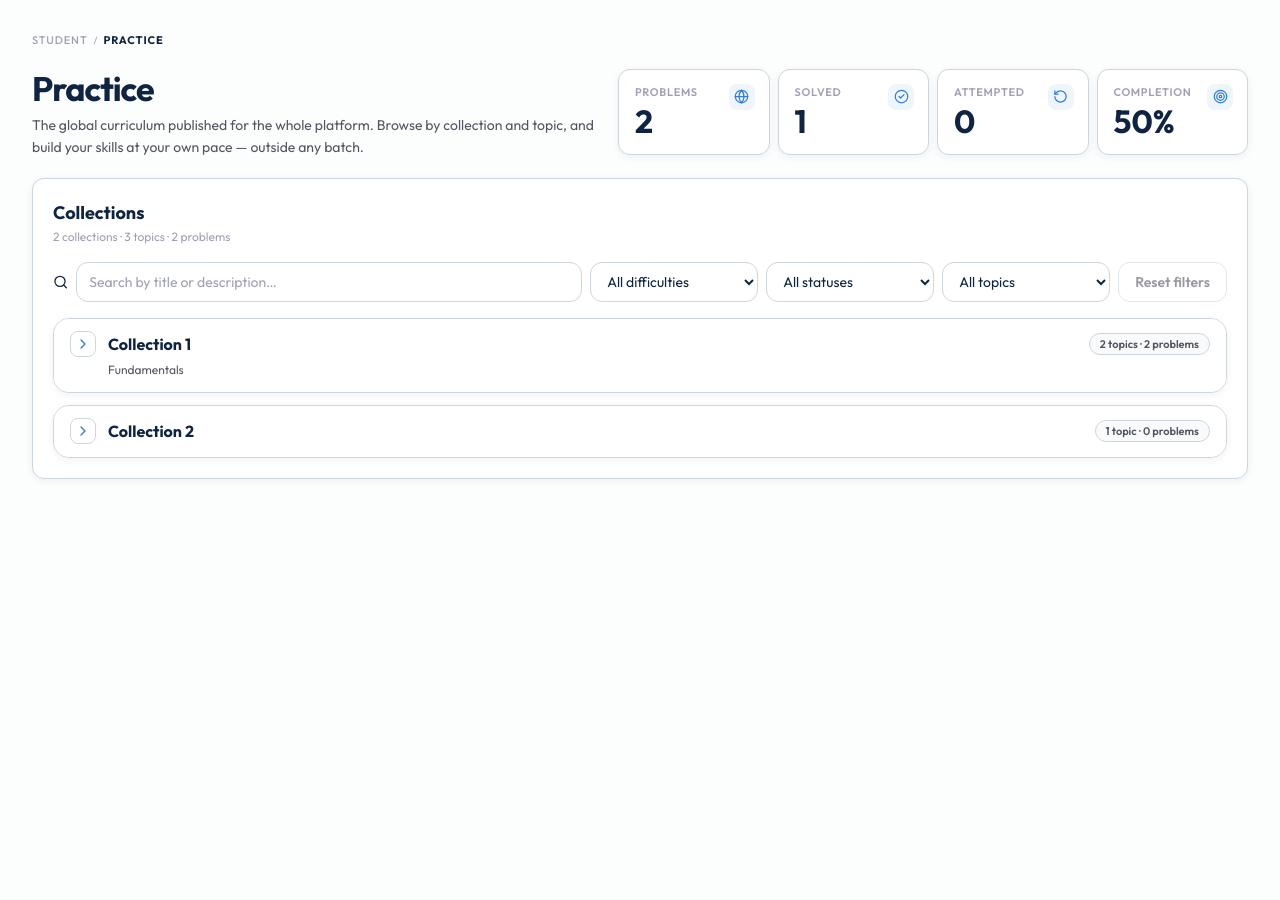
only problems belonging to that topic are shown
This screenshot has width=1280, height=900.
Expected: the text "Collection 1" is shown, [108,334,191,354]
Click the button "Collection 1 2 topics · 2 problems" at (150, 344), box [70,331,1210,357]
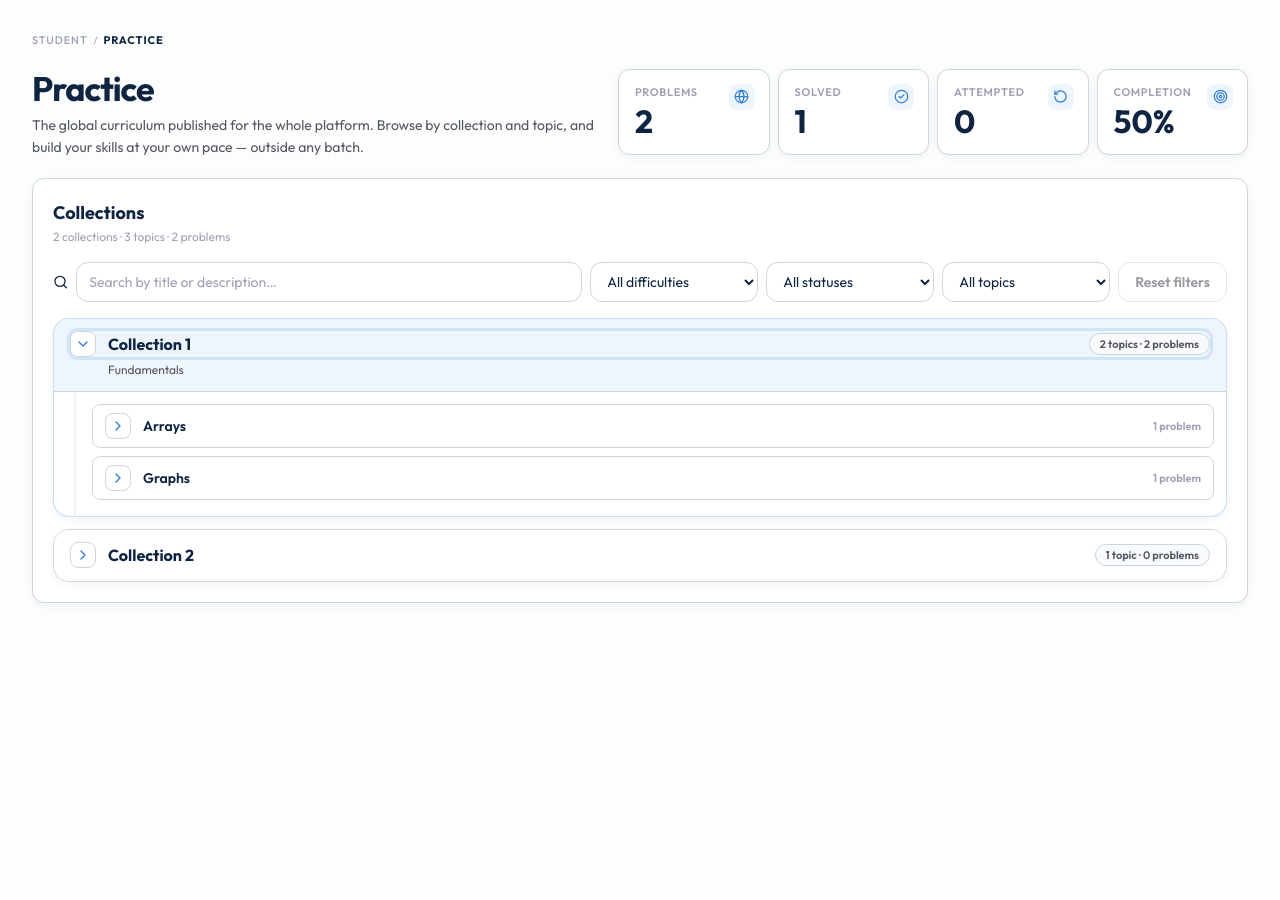
Click the button "Arrays 1 problem" at (165, 426), box [105,413,1201,439]
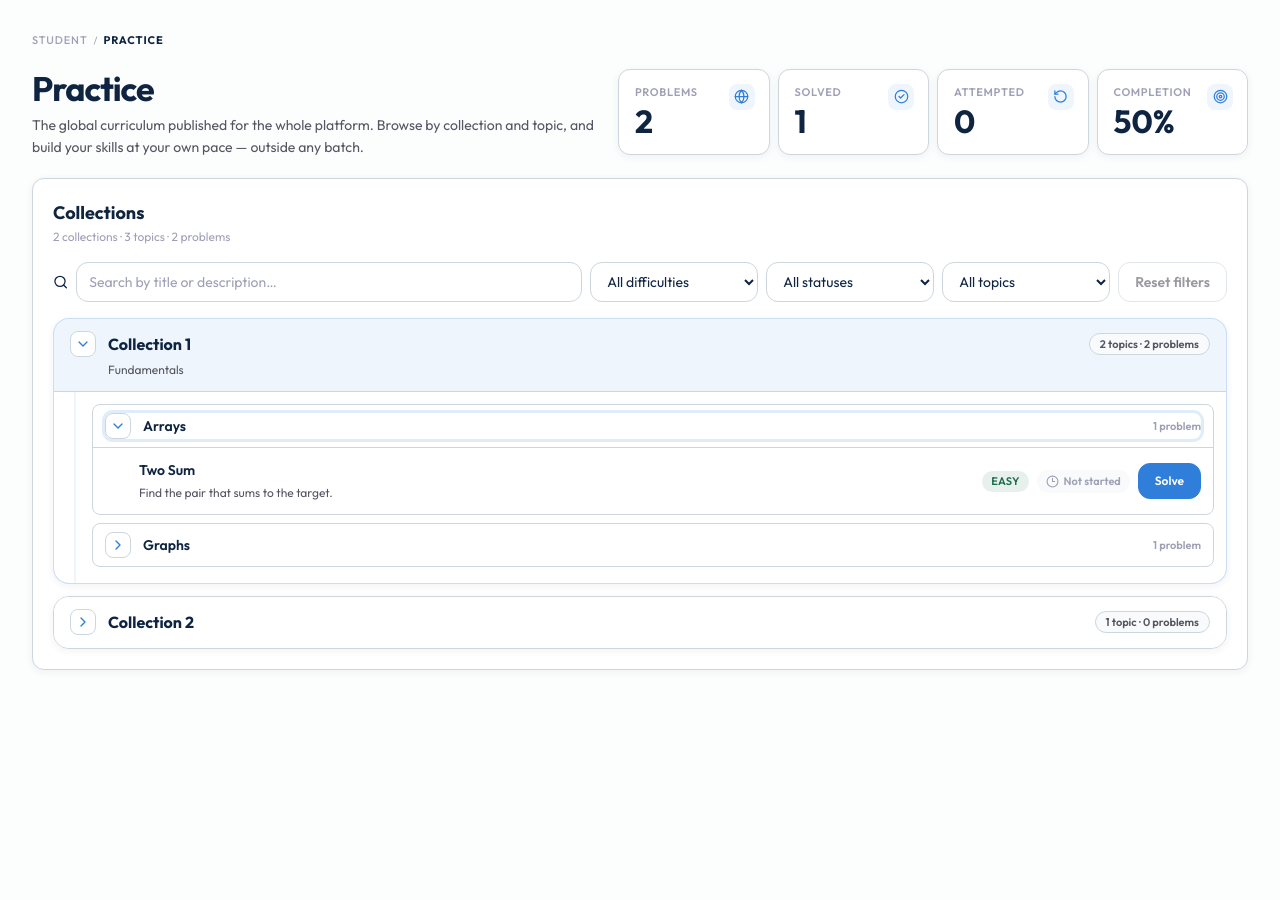
Expected: the text "Two Sum" is shown, [139,461,195,479]
